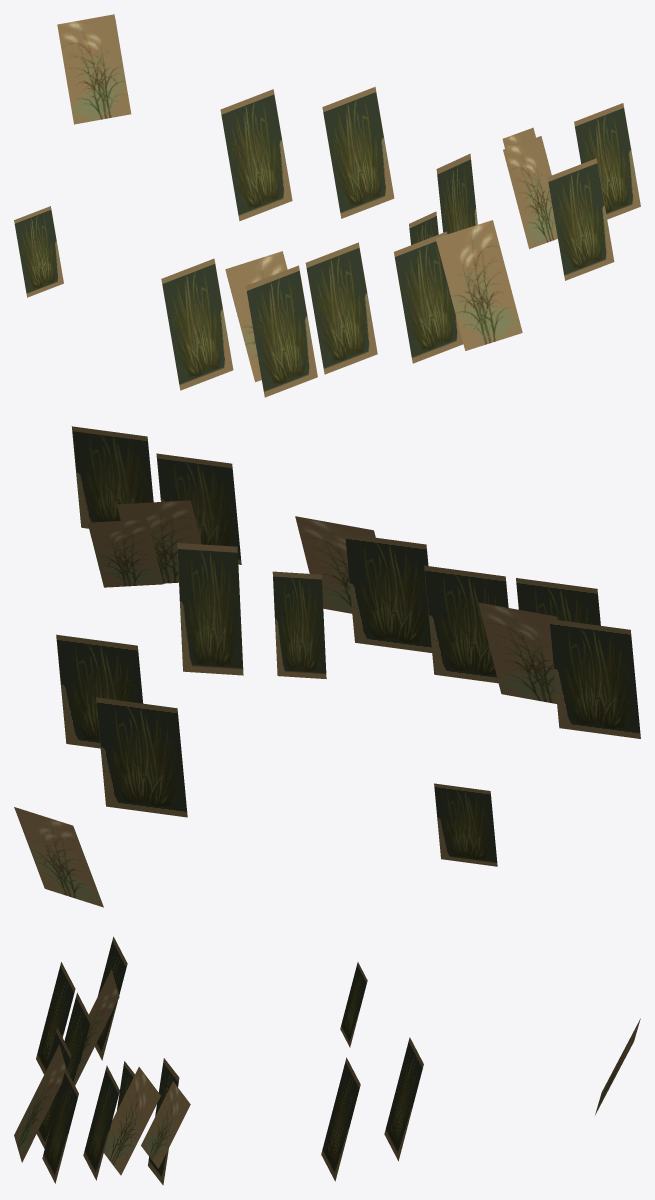
Rendered from object_grass_polys.fbx.
3 renders of one model, top to bottom at view 1: azimuth 30°, elevation 25°; view 2: azimuth 150°, elevation 25°; view 3: azimuth 270°, elevation 25°, orthographic. The views are drawn at different scales.
Parts seen in each view (by area): view 1: Material_#238683980/town_grass_mat; view 2: Material_#238683980/town_grass_mat; view 3: Material_#238683980/town_grass_mat.
Boxes of the visible parts, left/top/right/bottom form: Material_#238683980/town_grass_mat: left=14, top=14, right=640, bottom=397; Material_#238683980/town_grass_mat: left=14, top=426, right=640, bottom=907; Material_#238683980/town_grass_mat: left=14, top=936, right=640, bottom=1185.
Bounding box in the file's own units: 13.83 × 4.52 × 16.78.
